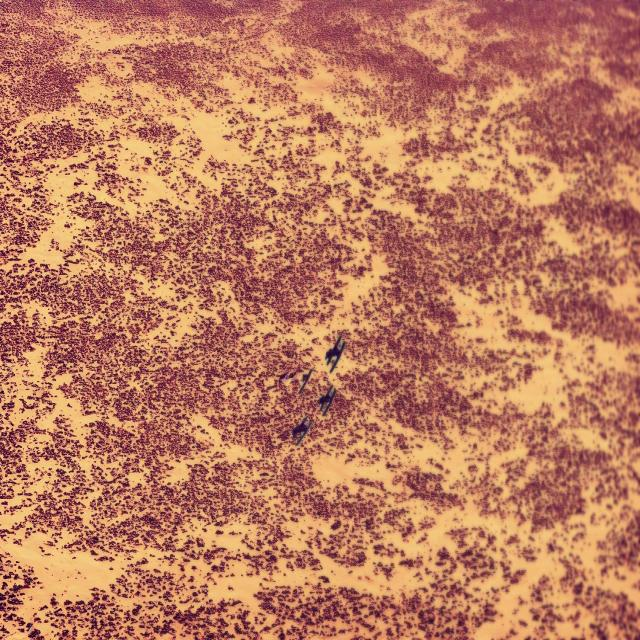airplane: (324, 335, 346, 373), (291, 414, 312, 446), (318, 385, 338, 418), (299, 368, 312, 391)
